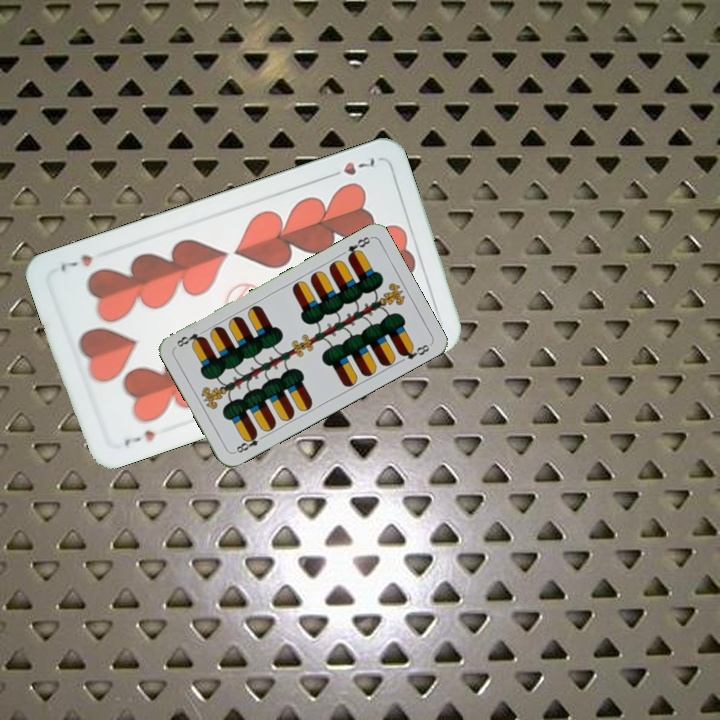E8: (230, 428, 268, 456), (343, 232, 373, 262)
H7: (323, 153, 378, 181), (120, 426, 158, 449)
